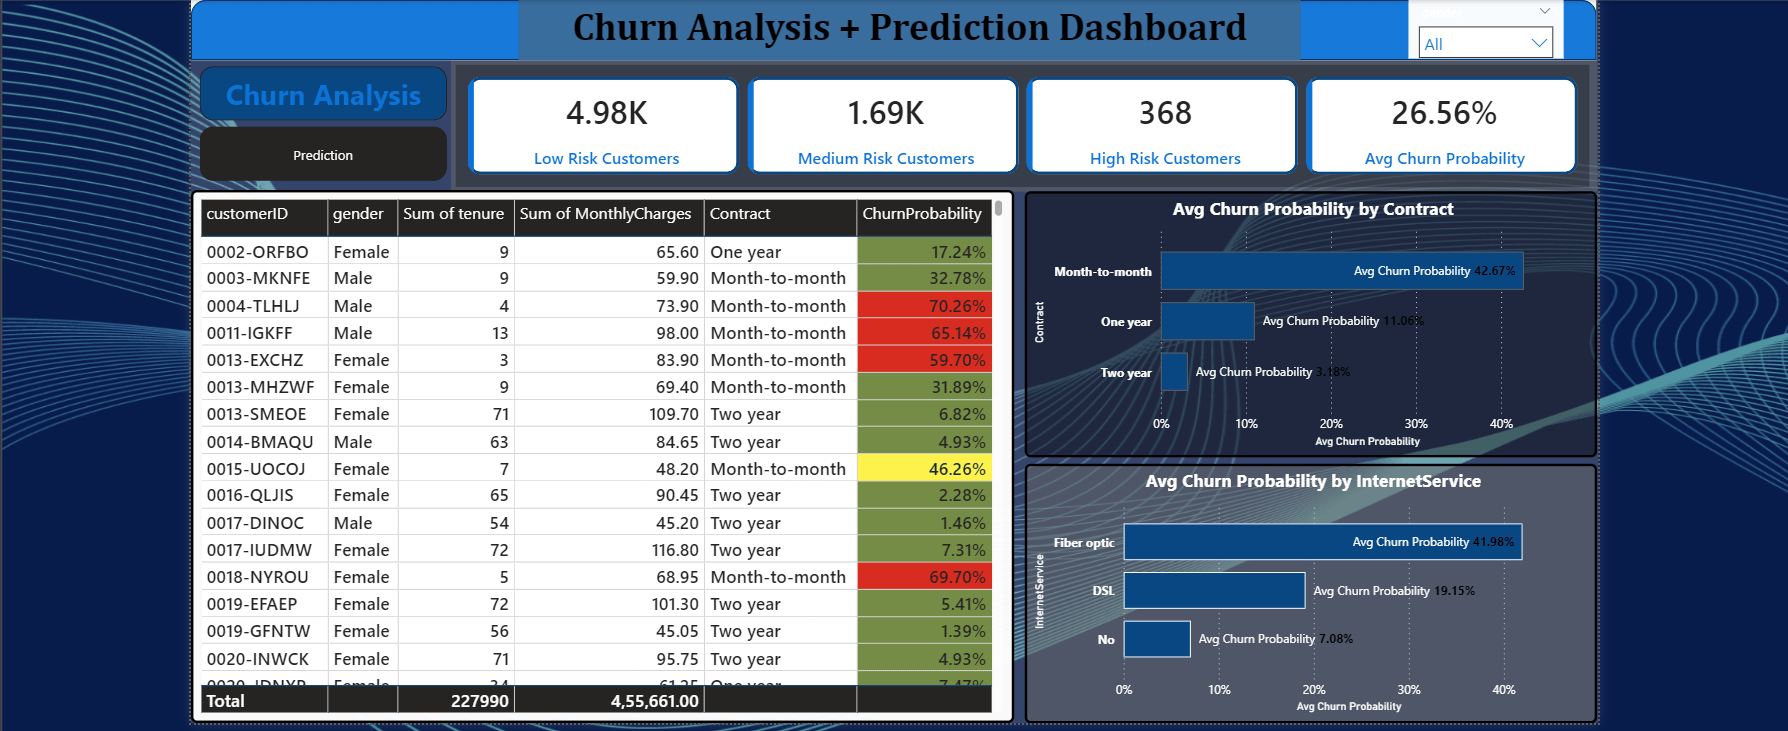

Layout of this report page (visuals, bound fields, positions):
{"tool":"powerbi","page":{"name":"Prediction ","canvas":[1400,720],"ordinal":1},"visuals":[{"type":"cardVisual","fields":{"Data":["Telco_Churn_Predictions.Low Risk Customers","Telco_Churn_Predictions.Medium Risk Customers","Telco_Churn_Predictions.High Risk Customers","Telco_Churn_Predictions.Avg Churn Probability"]},"box":[259.1,59.7,1141.2,131],"z":0},{"type":"clusteredBarChart","fields":{"Y":["Telco_Churn_Predictions.Avg Churn Probability"],"Category":["WA_Fn-UseC_-Telco-Customer-Churn.Contract"]},"box":[829.7,190.5,569.7,265],"z":1000},{"type":"clusteredBarChart","fields":{"Y":["Telco_Churn_Predictions.Avg Churn Probability"],"Category":["WA_Fn-UseC_-Telco-Customer-Churn.InternetService"]},"box":[829.7,462.1,569.7,258.4],"z":2000},{"type":"tableEx","fields":{"Values":["WA_Fn-UseC_-Telco-Customer-Churn.customerID","WA_Fn-UseC_-Telco-Customer-Churn.gender","Sum(WA_Fn-UseC_-Telco-Customer-Churn.tenure)","Sum(WA_Fn-UseC_-Telco-Customer-Churn.MonthlyCharges)","WA_Fn-UseC_-Telco-Customer-Churn.Contract","Telco_Churn_Predictions.ChurnProbability"]},"box":[0,189.4,819,530.2],"z":3000},{"type":"shape","box":[0,0,1398.8,59.7],"z":4000},{"type":"textbox","box":[326,0,778.7,59.7],"z":5000},{"type":"pageNavigator","box":[8.3,66.3,246.8,114.3],"z":6000},{"type":"slicer","fields":{"Values":["WA_Fn-UseC_-Telco-Customer-Churn.gender"]},"box":[1211,0,154.3,58.2],"z":7000}]}

Visuals, with their boxes on the page's 1400x720 design canvas (x1, y1, x2, y2). These are canvas units, not pixel positions in the 1788x731 screenshot, which may show the page scaled, cropped or inside an application window:
cardVisual - Telco_Churn_Predictions.Low Risk Customers x Telco_Churn_Predictions.Medium Risk Customers: [left=259, top=60, right=1400, bottom=191]
clusteredBarChart - Telco_Churn_Predictions.Avg Churn Probability x WA_Fn-UseC_-Telco-Customer-Churn.Contract: [left=830, top=190, right=1399, bottom=456]
clusteredBarChart - Telco_Churn_Predictions.Avg Churn Probability x WA_Fn-UseC_-Telco-Customer-Churn.InternetService: [left=830, top=462, right=1399, bottom=720]
tableEx - WA_Fn-UseC_-Telco-Customer-Churn.customerID x WA_Fn-UseC_-Telco-Customer-Churn.gender: [left=0, top=189, right=819, bottom=720]
shape: [left=0, top=0, right=1399, bottom=60]
textbox: [left=326, top=0, right=1105, bottom=60]
pageNavigator: [left=8, top=66, right=255, bottom=181]
slicer - WA_Fn-UseC_-Telco-Customer-Churn.gender: [left=1211, top=0, right=1365, bottom=58]
